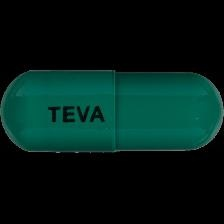0093-7170: (0, 0, 224, 224)
